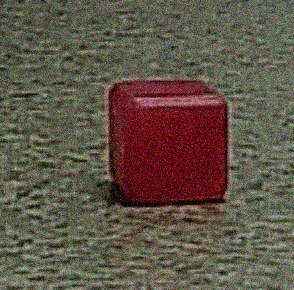red_cube: (97, 73, 239, 215)
